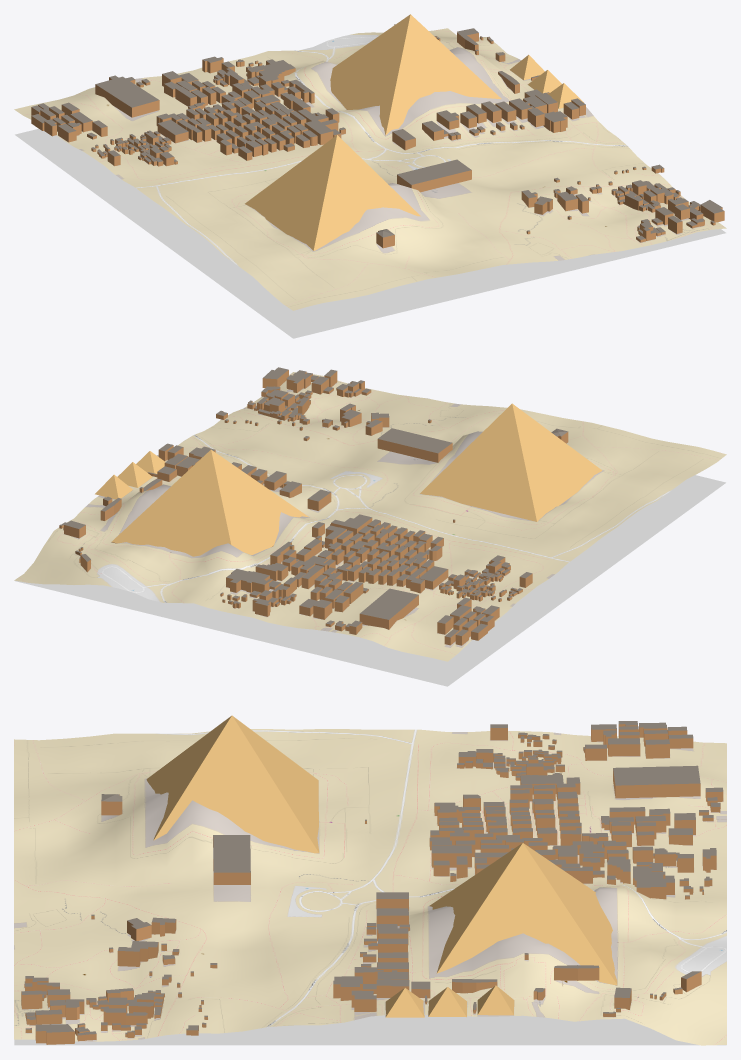
The picture shows the model from 3 angles, top to bottom: view 1: azimuth 30°, elevation 25°; view 2: azimuth 150°, elevation 25°; view 3: azimuth 270°, elevation 25°; orthographic projection. The views are drawn at different scales.
Parts seen in each view (by area): view 1: Terrain, map_5.osm_buildings, Terrain_envelope; view 2: Terrain, map_5.osm_buildings, Terrain_envelope; view 3: Terrain, map_5.osm_buildings, Terrain_envelope.
Boxes of the visible parts, left/top/right/bottom form: Terrain: left=14, top=28, right=726, bottom=310; map_5.osm_buildings: left=31, top=14, right=724, bottom=250; Terrain_envelope: left=15, top=128, right=725, bottom=338; Terrain: left=14, top=372, right=726, bottom=661; map_5.osm_buildings: left=59, top=367, right=602, bottom=645; Terrain_envelope: left=15, top=475, right=725, bottom=686; Terrain: left=14, top=729, right=726, bottom=1045; map_5.osm_buildings: left=21, top=715, right=723, bottom=1044; Terrain_envelope: left=14, top=1015, right=726, bottom=1045.
Size of the model in its own units: 804 by 189 by 866.
Materials: 5 (1 with a texture image).
